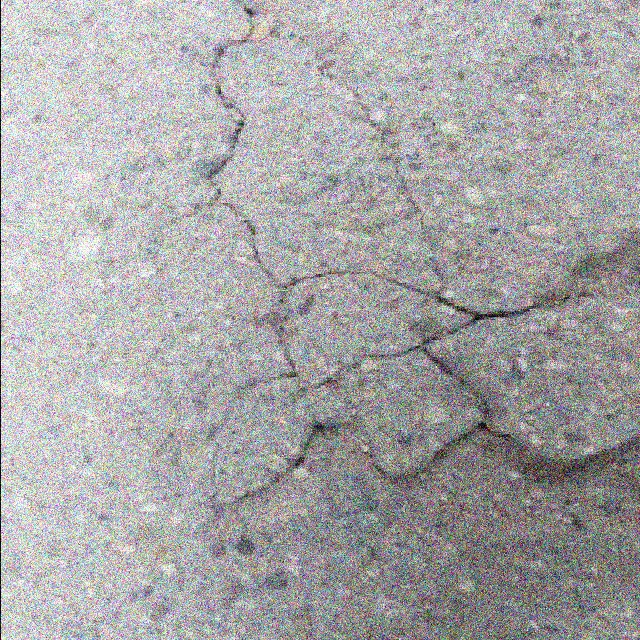SurfaceCrack: (172, 0, 628, 518)
